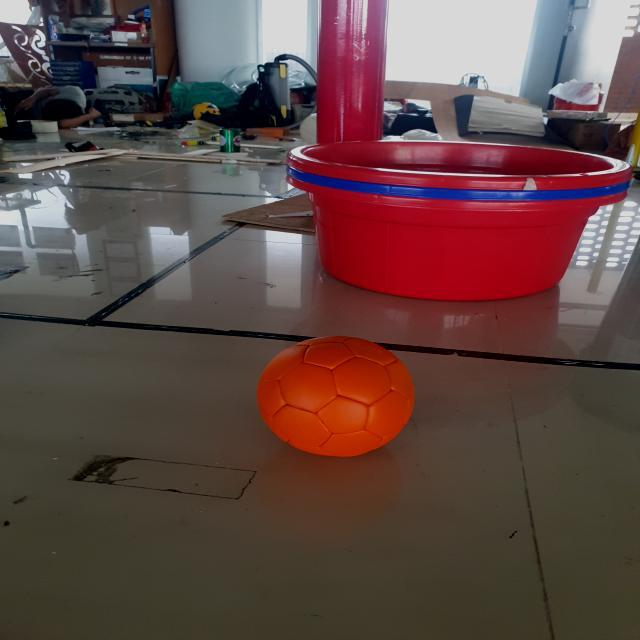bola: (249, 329, 423, 461)
